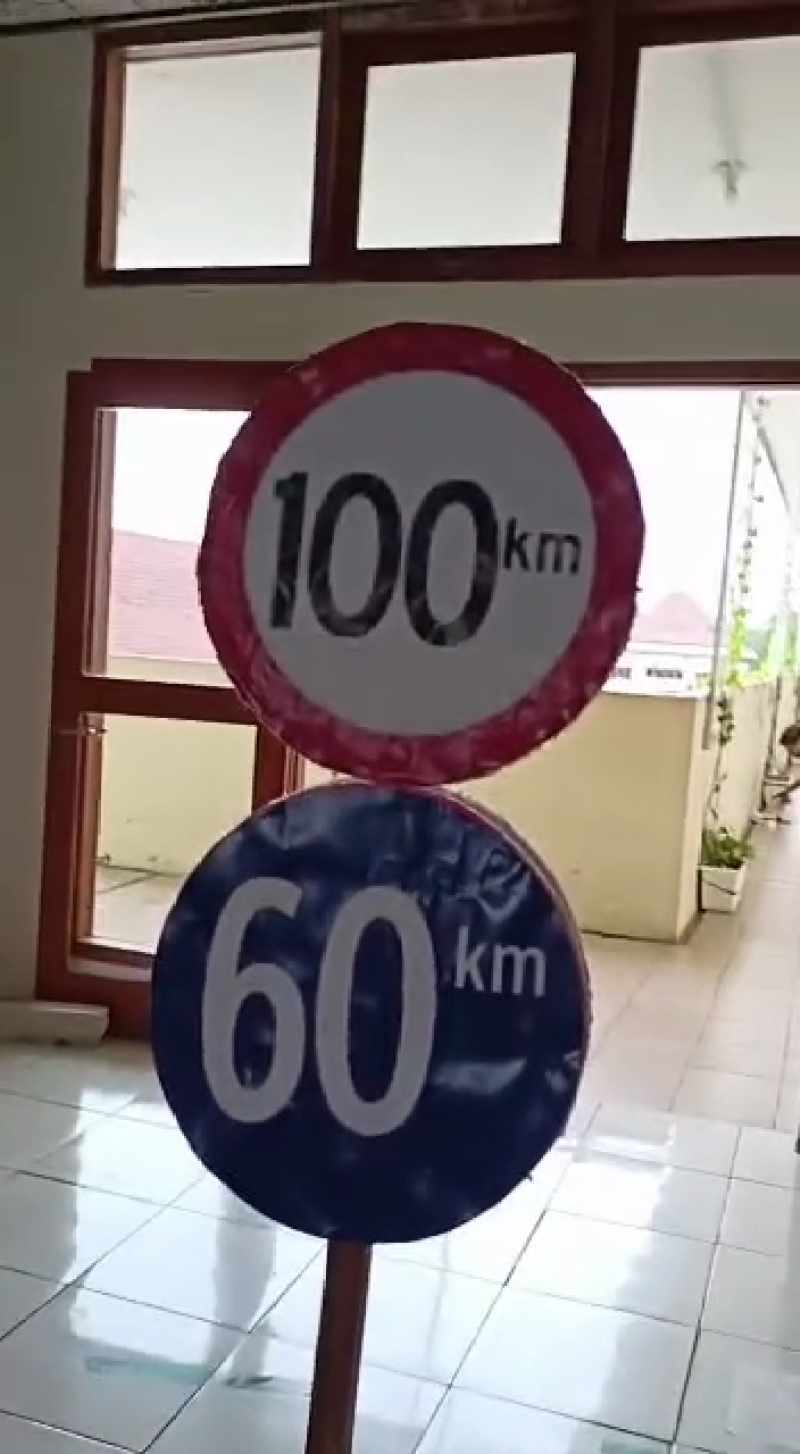batas maksimal 100kmperjam minimal 60kmperjam: (131, 309, 668, 1256)
